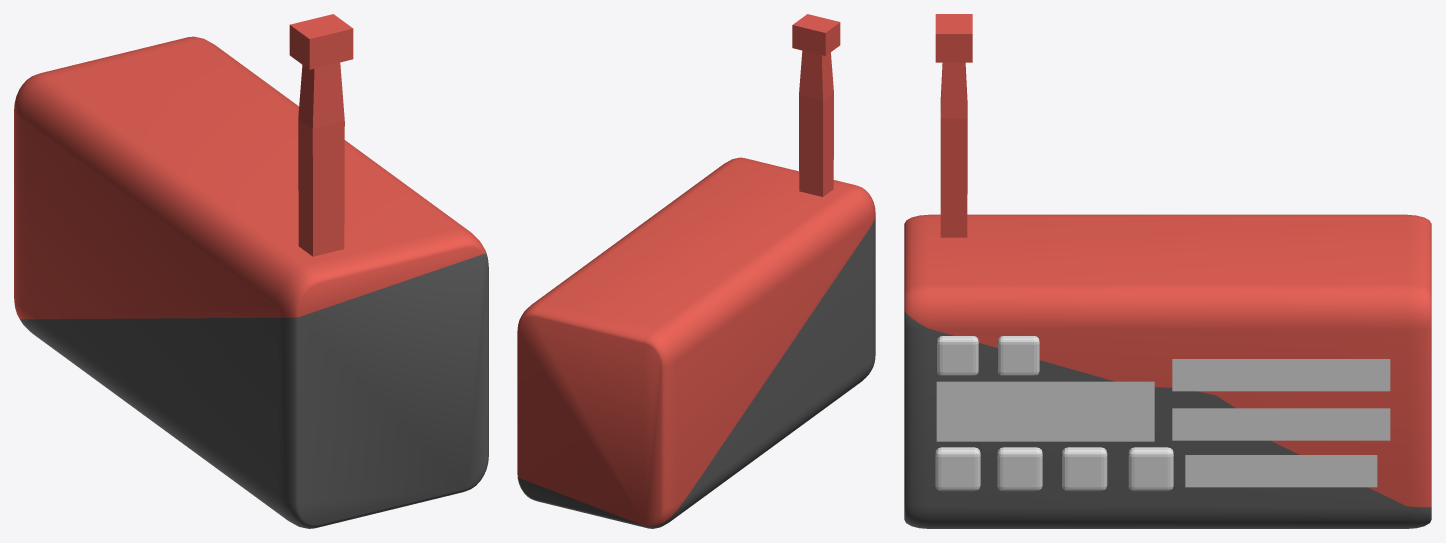
Rendered from Boombox.fbx.
3 views of the same model, side by side, from view 1: azimuth 30°, elevation 25°; view 2: azimuth 150°, elevation 25°; view 3: azimuth 270°, elevation 25° (orthographic). The views are drawn at different scales.
Parts seen in each view (by area): view 1: Cube; view 2: Cube; view 3: Cube, Plane, Plane.001, Plane.003, Plane.002, Cube.004, Cube.002, Cube.003, Cube.001, Cube.006, Cube.005.
Boxes of the visible parts, left/top/right/bottom form: Cube: left=14, top=14, right=488, bottom=528; Cube: left=517, top=14, right=875, bottom=528; Cube: left=904, top=14, right=1431, bottom=528; Plane: left=936, top=381, right=1154, bottom=441; Plane.001: left=1172, top=408, right=1390, bottom=440; Plane.003: left=1172, top=359, right=1390, bottom=391; Plane.002: left=1185, top=455, right=1377, bottom=487; Cube.004: left=1128, top=447, right=1173, bottom=491; Cube.002: left=997, top=447, right=1042, bottom=491; Cube.003: left=1062, top=447, right=1107, bottom=491; Cube.001: left=935, top=447, right=980, bottom=491; Cube.006: left=998, top=336, right=1039, bottom=375; Cube.005: left=937, top=336, right=978, bottom=375.
Bounding box in the file's own units: 172 × 370 × 394.
